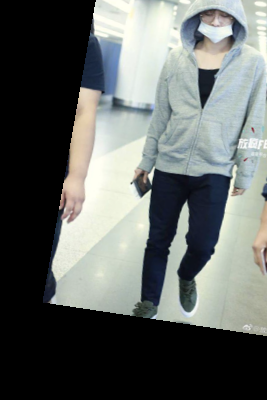mask_weared_incorrect: (162, 1, 250, 48)
